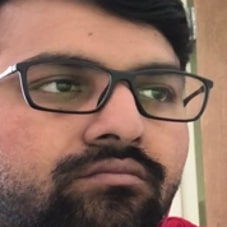awake: (16, 36, 182, 227)
